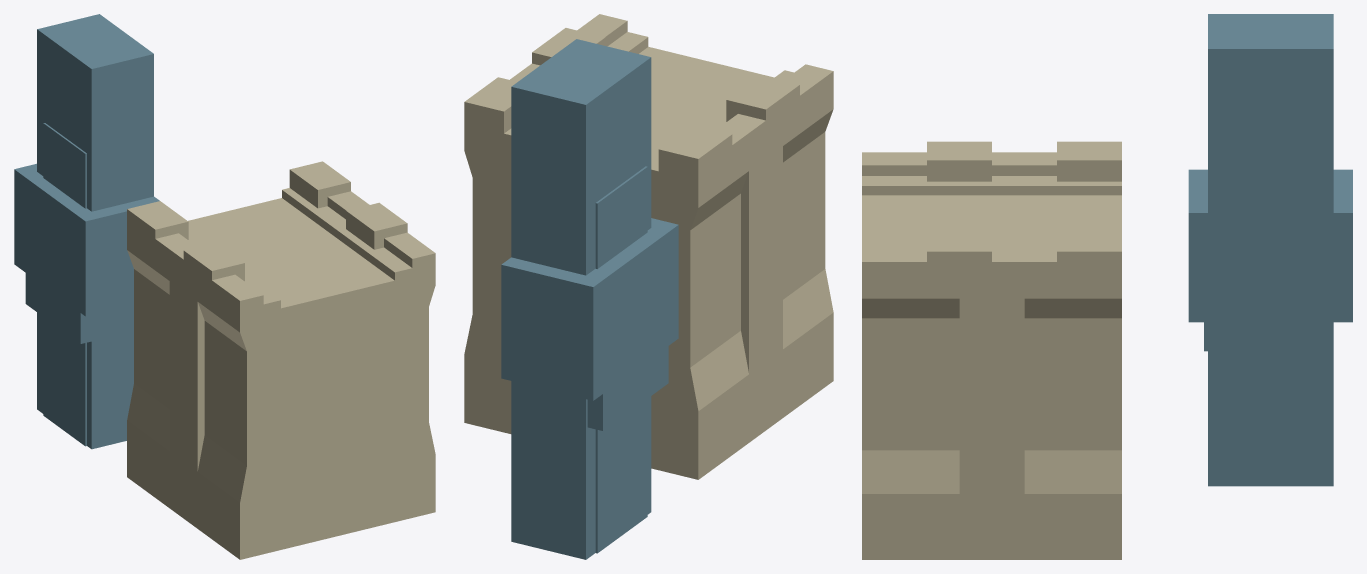
Rendered from advpower.glb.
3 views of the same model, side by side, from view 1: azimuth 30°, elevation 25°; view 2: azimuth 150°, elevation 25°; view 3: azimuth 270°, elevation 25° (orthographic). The views are drawn at different scales.
Bounding box in the file's own units: 7.45 × 13 × 13.22.
